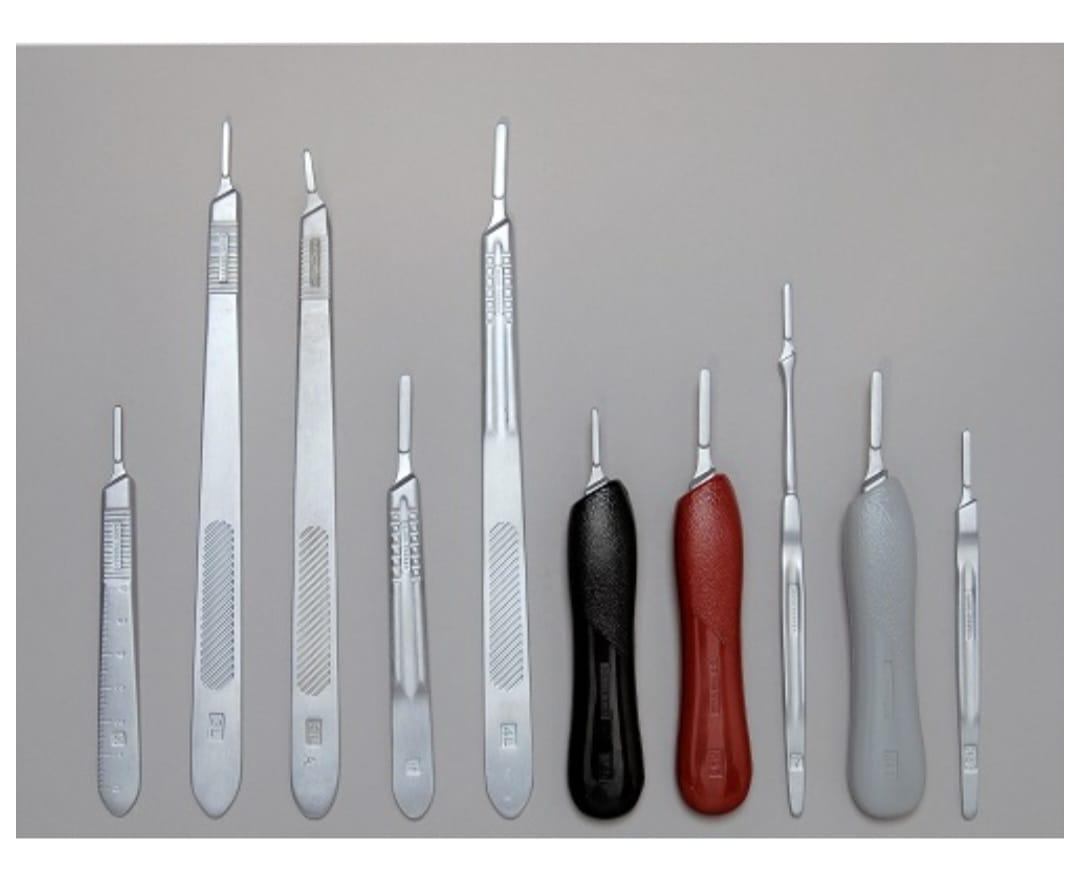Knife Handle: (463, 119, 551, 821), (187, 91, 263, 819), (289, 147, 357, 831), (60, 399, 170, 819), (664, 351, 756, 821), (836, 363, 930, 823), (567, 400, 651, 823), (381, 370, 444, 823), (943, 424, 1001, 827), (766, 449, 821, 821)
